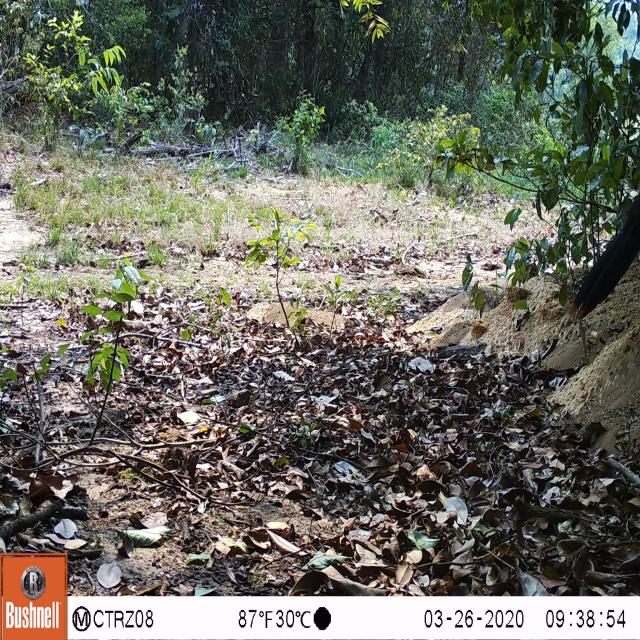Salvins Curassow: (561, 184, 640, 349)
